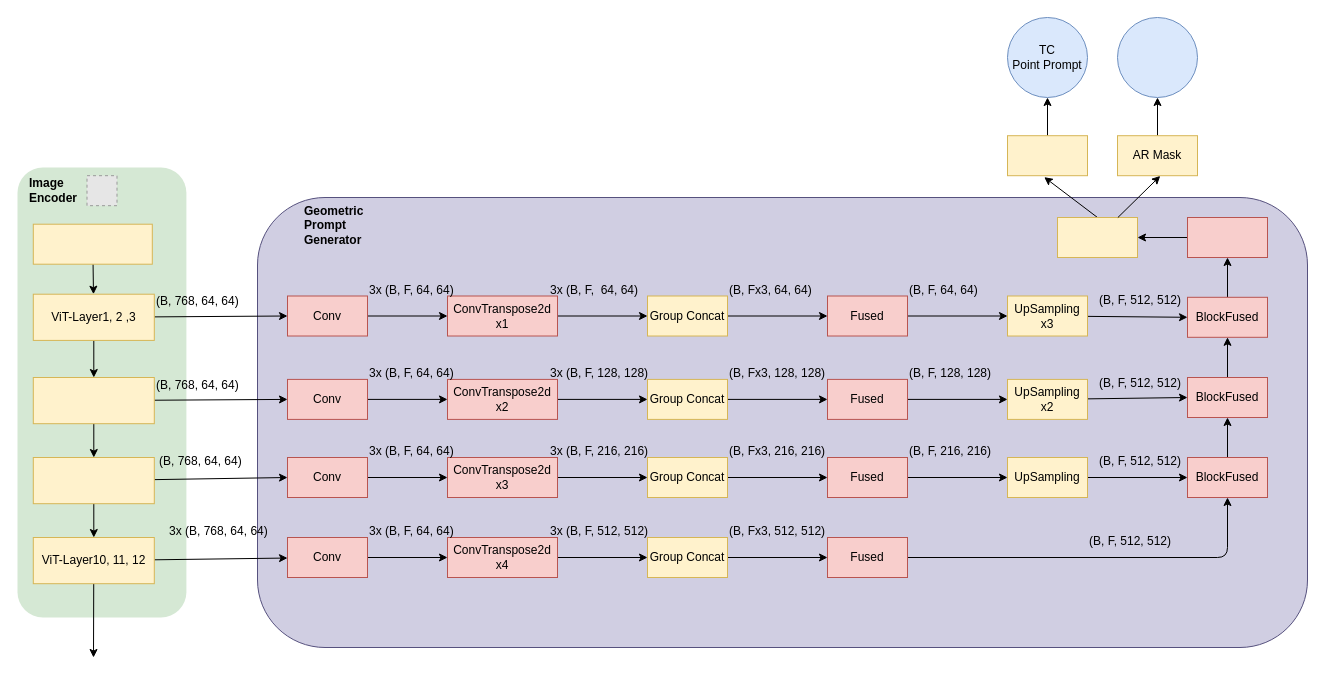
Image size: 1325x683. Some labels were removed from this diagram. Grey dashed boxes stand in for pictures. Each missing label, with the box of its shape:
AR Point Pr ompt: (1116, 16, 1198, 98)
Neck: (1186, 216, 1268, 258)
Patch Embed: (32, 223, 152, 264)
TC Mask: (1006, 135, 1088, 176)
Threshold: (1056, 216, 1138, 258)
ViT-Layer4, 5, 6: (32, 376, 154, 424)
ViT-Layer7, 8 ,9: (32, 456, 154, 504)
